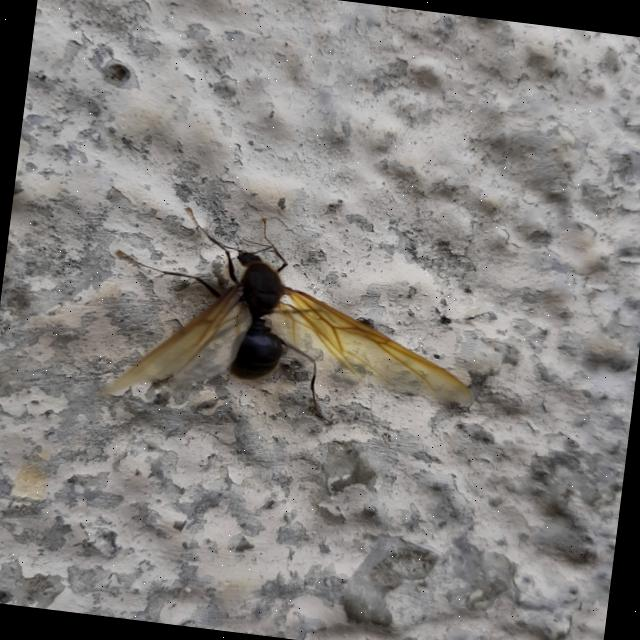Alive-Male-Alate: (96, 198, 493, 442)
